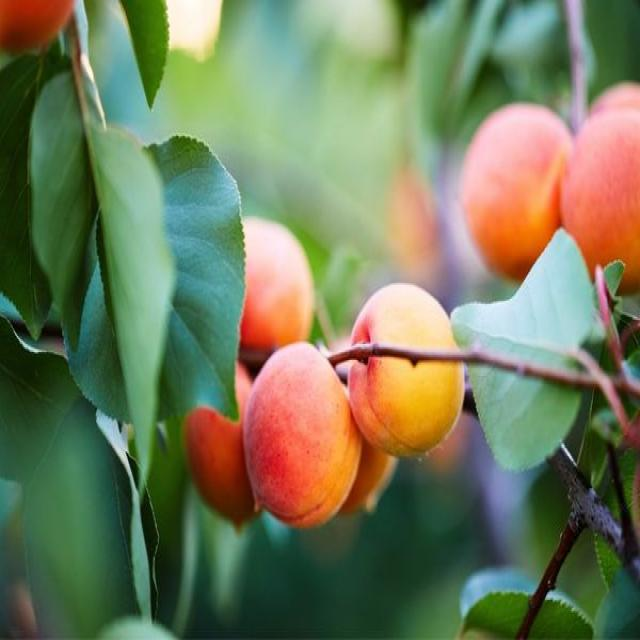kayisi: (248, 341, 361, 531), (347, 282, 466, 458), (460, 108, 574, 274)
yaprak: (445, 230, 603, 470), (30, 61, 127, 419), (86, 122, 172, 493), (154, 135, 246, 421)
